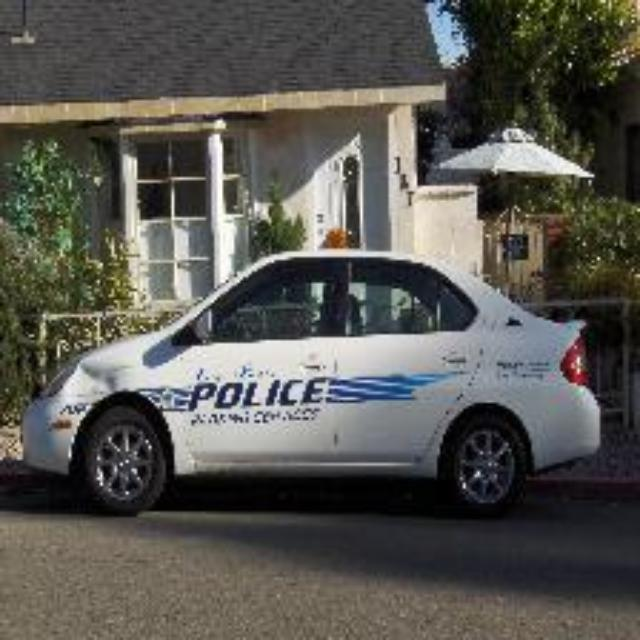emergency: (19, 236, 599, 526)
